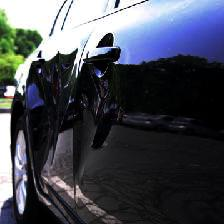door_dent: (66, 52, 119, 203)
